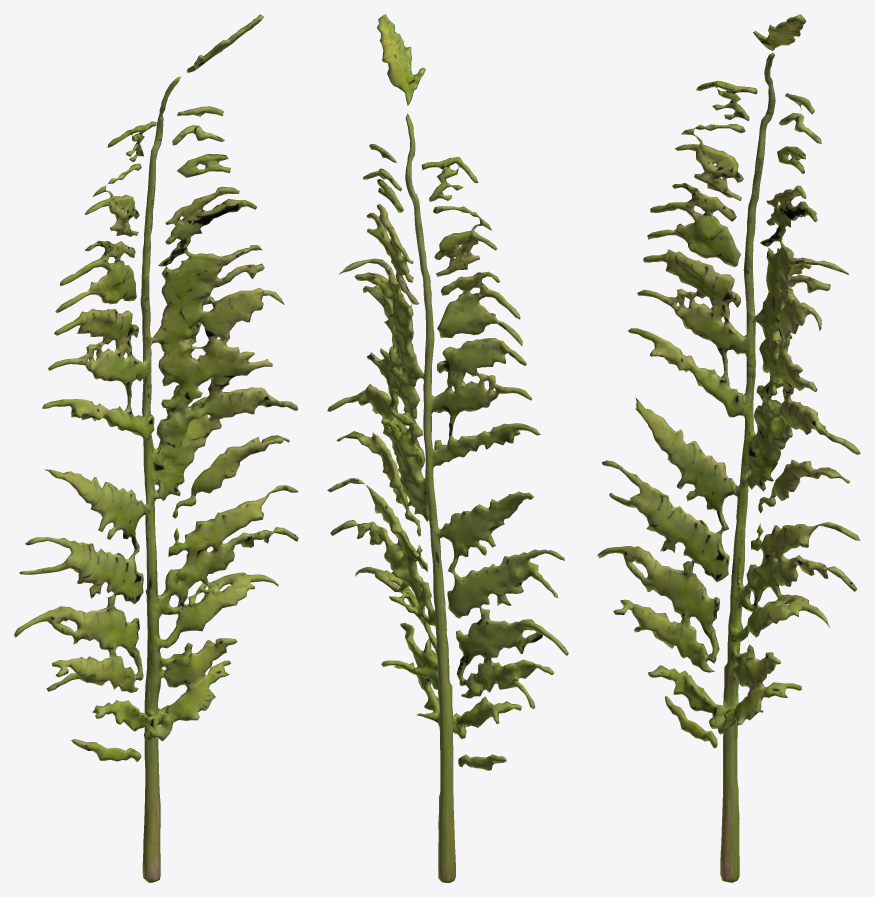
3 views of the same model, side by side, from view 1: azimuth 30°, elevation 25°; view 2: azimuth 150°, elevation 25°; view 3: azimuth 330°, elevation 25° (orthographic). The views are drawn at different scales.
Parts seen in each view (by area): view 1: Mesh1.0; view 2: Mesh1.0; view 3: Mesh1.0.
Part boxes in pixels (bbox=[...]): Mesh1.0: bbox=[14, 14, 298, 882]; Mesh1.0: bbox=[327, 14, 568, 882]; Mesh1.0: bbox=[597, 14, 860, 882].
Size of the model in its own units: 65.12 by 200 by 17.51.
1 material, 1 textured.
